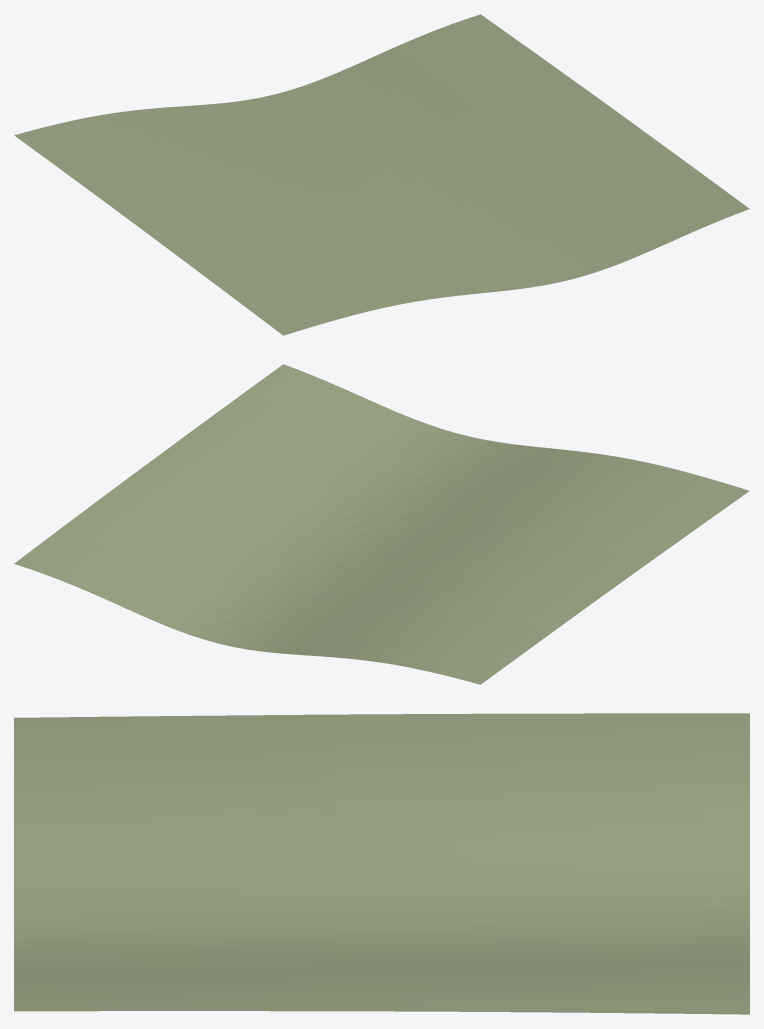
File: desert-12-20.glb
The picture shows the model from 3 angles, top to bottom: view 1: azimuth 30°, elevation 25°; view 2: azimuth 150°, elevation 25°; view 3: azimuth 270°, elevation 25°; orthographic projection. The views are drawn at different scales.
Visible parts, largest first — view 1: desert-12-20; view 2: desert-12-20; view 3: desert-12-20.
Part boxes in pixels (bbox=[...]): desert-12-20: bbox=[14, 14, 749, 335]; desert-12-20: bbox=[14, 364, 749, 684]; desert-12-20: bbox=[14, 713, 749, 1014].
Bounding box in the file's own units: 512 × 34.05 × 512.
